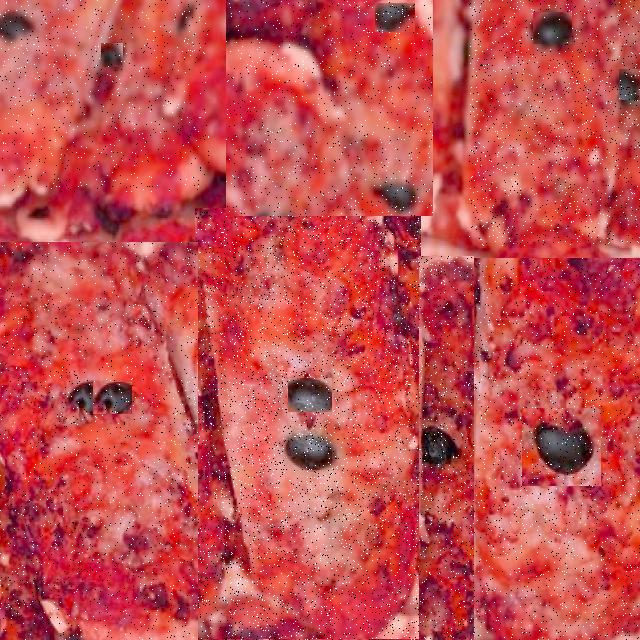Olives: (522, 408, 601, 486), (288, 378, 332, 412), (93, 382, 132, 414), (533, 12, 572, 44), (375, 4, 415, 34), (619, 69, 640, 100), (101, 43, 123, 67), (258, 0, 300, 7)
Pizza: (196, 208, 421, 640), (0, 242, 198, 640), (468, 258, 640, 640), (226, 0, 433, 216), (469, 0, 640, 246), (0, 0, 210, 192), (419, 256, 474, 640)
